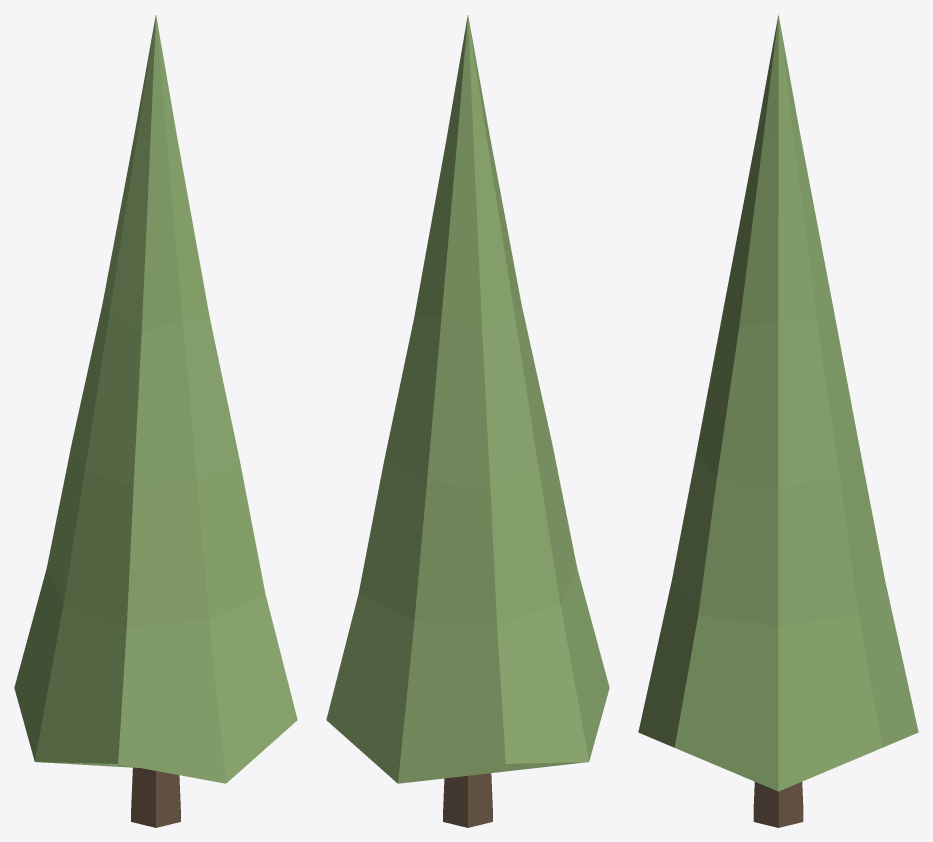
File: Tree_08.fbx
3 renders of one model, left to right at view 1: azimuth 30°, elevation 25°; view 2: azimuth 150°, elevation 25°; view 3: azimuth 270°, elevation 25°, orthographic.
Parts seen in each view (by area): view 1: Tree_08; view 2: Tree_08; view 3: Tree_08.
Part boxes in pixels (bbox=[...]): Tree_08: bbox=[14, 15, 297, 827]; Tree_08: bbox=[326, 15, 609, 827]; Tree_08: bbox=[638, 14, 918, 827].
Size of the model in its own units: 33.37 by 105 by 33.43.
